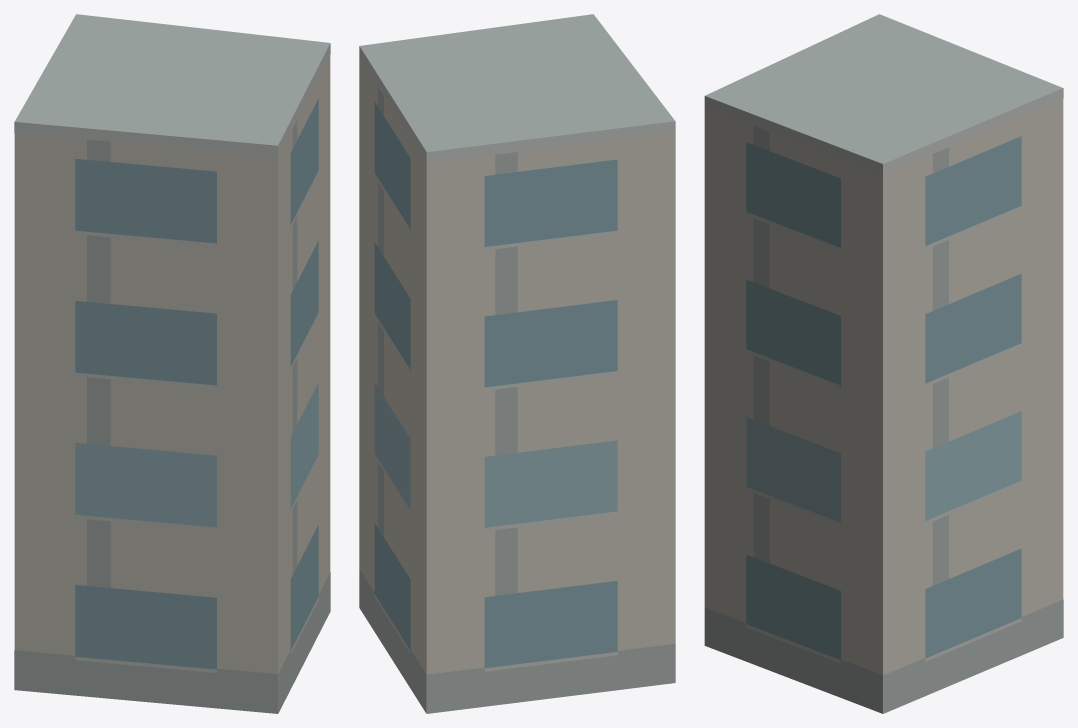
File: survey-upis-32522147.glb
3 renders of one model, left to right at view 1: azimuth 30°, elevation 25°; view 2: azimuth 150°, elevation 25°; view 3: azimuth 270°, elevation 25°, orthographic. The views are drawn at different scales.
Visible parts, largest first — view 1: survey-upis-32522147.tmp; view 2: survey-upis-32522147.tmp; view 3: survey-upis-32522147.tmp.
Part boxes in pixels (x1,y1,x2,y2): survey-upis-32522147.tmp: [14, 14, 330, 713]; survey-upis-32522147.tmp: [359, 14, 675, 713]; survey-upis-32522147.tmp: [704, 14, 1063, 713].
Bounding box in the file's own units: 7.15 × 12.2 × 7.22.
